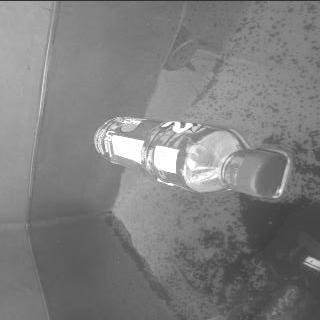bottle: (90, 114, 288, 196)
